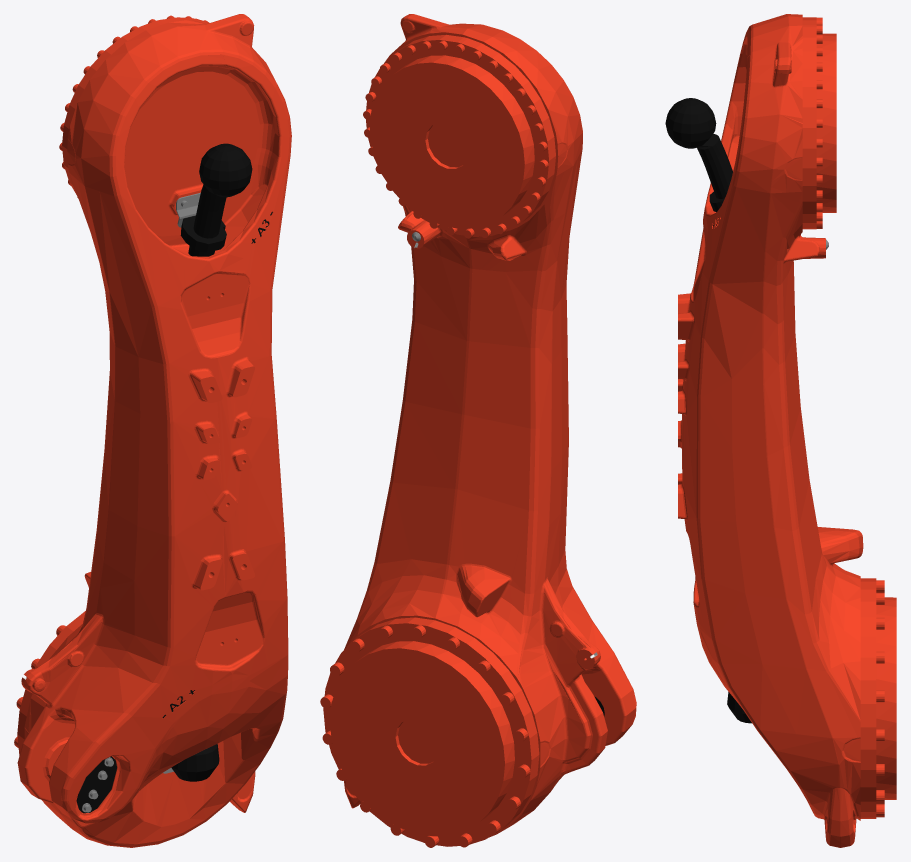
3 renders of one model, left to right at view 1: azimuth 30°, elevation 25°; view 2: azimuth 150°, elevation 25°; view 3: azimuth 270°, elevation 25°, orthographic. The views are drawn at different scales.
Visible parts, largest first — view 1: link_2; view 2: link_2; view 3: link_2.
Part boxes in pixels (<box>): link_2: <box>14,14,291,847</box>; link_2: <box>320,14,636,847</box>; link_2: <box>665,14,896,847</box>.
Size of the model in its own units: 0.5612 by 0.455 by 1.71.
